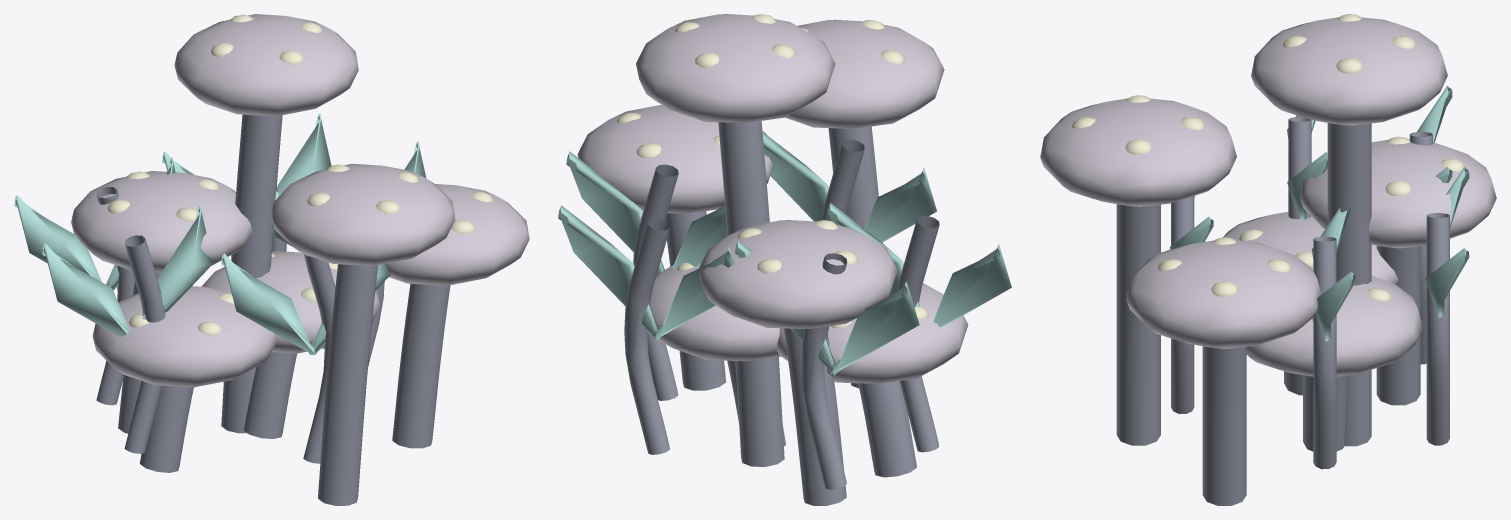
File: bio_spore_fungus_02_far.glb
The picture shows the model from 3 angles, left to right: view 1: azimuth 30°, elevation 25°; view 2: azimuth 150°, elevation 25°; view 3: azimuth 270°, elevation 25°; orthographic projection. The views are drawn at different scales.
Parts seen in each view (by area): view 1: Thick umbrella cap.002, Thick umbrella cap.003, Thick umbrella cap.004, Thick umbrella cap.001, Curved stipe.002, Thick umbrella cap.005, Curved stipe.003, Curved stipe.005, Secondary fan lobe.008, Secondary fan lobe.004, Thick umbrella cap, Branching support.004 (+11 smaller); view 2: Thick umbrella cap.003, Thick umbrella cap.001, Thick umbrella cap.002, Thick umbrella cap.005, Curved stipe.003, Thick umbrella cap.004, Thick umbrella cap, Branching support.003, Secondary fan lobe.004, Secondary fan lobe.006, Secondary fan lobe, Branching support.001 (+12 smaller); view 3: Thick umbrella cap.003, Thick umbrella cap.002, Thick umbrella cap.005, Thick umbrella cap.001, Curved stipe.002, Thick umbrella cap, Curved stipe.003, Curved stipe.005, Branching support.003, Branching support, Curved stipe.001, Thick umbrella cap.004 (+13 smaller).
Boxes of the visible parts, <box> form: Thick umbrella cap.002: <box>271,163,455,266</box>; Thick umbrella cap.003: <box>174,14,358,116</box>; Thick umbrella cap.004: <box>92,286,276,387</box>; Thick umbrella cap.001: <box>71,171,252,272</box>; Curved stipe.002: <box>318,264,377,505</box>; Thick umbrella cap.005: <box>385,184,529,285</box>; Curved stipe.003: <box>221,114,282,433</box>; Curved stipe.005: <box>392,283,450,448</box>; Secondary fan lobe.008: <box>42,205,212,336</box>; Secondary fan lobe.004: <box>221,253,390,354</box>; Thick umbrella cap: <box>202,251,380,353</box>; Branching support.004: <box>124,235,165,453</box>; Thick umbrella cap.003: <box>636,14,835,122</box>; Thick umbrella cap.001: <box>699,220,897,328</box>; Thick umbrella cap.002: <box>785,19,944,128</box>; Thick umbrella cap.005: <box>577,105,772,213</box>; Curved stipe.003: <box>718,121,784,466</box>; Thick umbrella cap.004: <box>777,283,968,383</box>; Thick umbrella cap: <box>647,265,780,361</box>; Branching support.003: <box>624,218,670,454</box>; Secondary fan lobe.004: <box>762,132,936,242</box>; Secondary fan lobe.006: <box>558,205,734,340</box>; Secondary fan lobe: <box>566,151,727,275</box>; Branching support.001: <box>801,253,847,489</box>; Thick umbrella cap.003: <box>1251,17,1447,125</box>; Thick umbrella cap.002: <box>1040,98,1236,206</box>; Thick umbrella cap.005: <box>1126,240,1321,348</box>; Thick umbrella cap.001: <box>1300,140,1496,248</box>; Curved stipe.002: <box>1116,204,1160,445</box>; Thick umbrella cap: <box>1246,275,1422,376</box>; Curved stipe.003: <box>1327,123,1371,446</box>; Curved stipe.005: <box>1202,346,1246,505</box>; Branching support.003: <box>1426,213,1449,445</box>; Branching support: <box>1313,236,1336,469</box>; Curved stipe.001: <box>1376,245,1420,405</box>; Thick umbrella cap.004: <box>1223,212,1398,284</box>.
Size of the model in its own units: 2.03 by 1.78 by 1.76.
